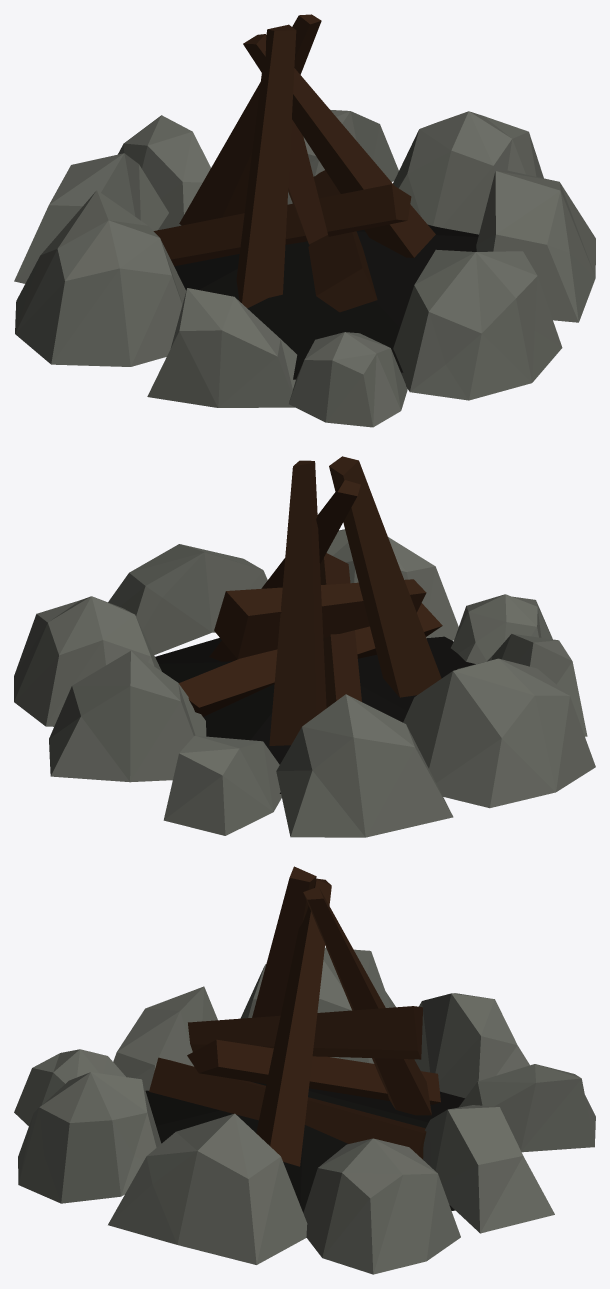
File: campfire.FBX
3 renders of one model, top to bottom at view 1: azimuth 30°, elevation 25°; view 2: azimuth 150°, elevation 25°; view 3: azimuth 270°, elevation 25°, orthographic. The views are drawn at different scales.
Parts seen in each view (by area): view 1: campfire; view 2: campfire; view 3: campfire.
Part boxes in pixels (<box>): campfire: <box>14,14,595,427</box>; campfire: <box>14,456,595,837</box>; campfire: <box>14,866,595,1274</box>.
Size of the model in its own units: 11.78 by 5.79 by 11.22.
